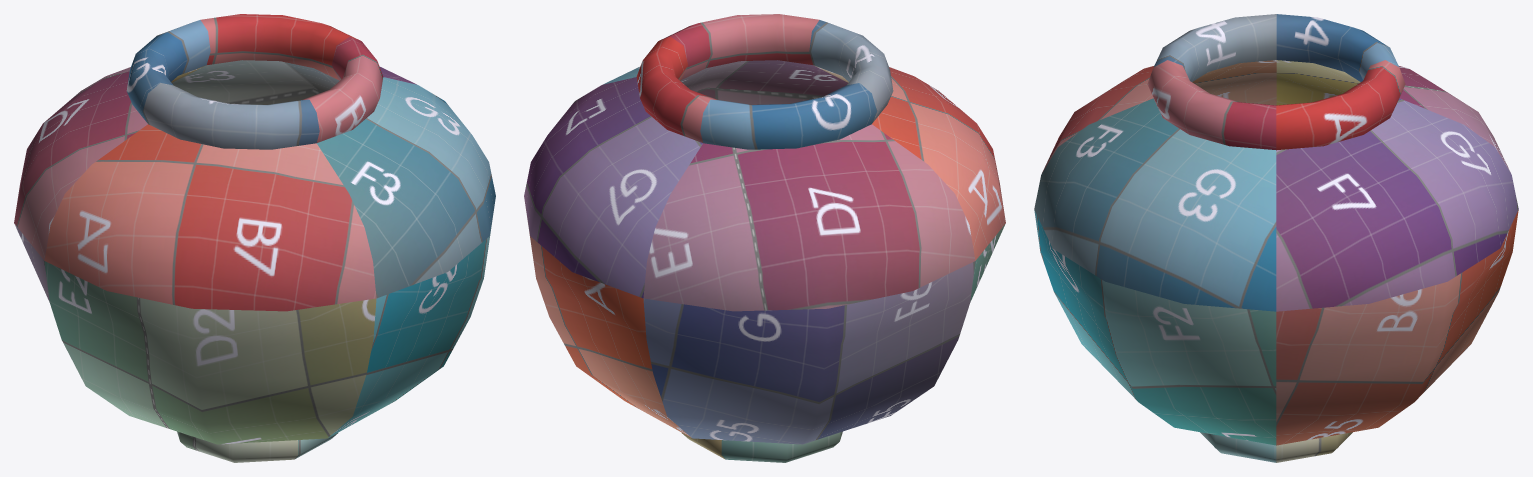
File: SmallVase_SHAT.fbx
3 views of the same model, side by side, from view 1: azimuth 30°, elevation 25°; view 2: azimuth 150°, elevation 25°; view 3: azimuth 270°, elevation 25° (orthographic).
Visible parts, largest first — view 1: SmallVase_SHAT.001; view 2: SmallVase_SHAT.001; view 3: SmallVase_SHAT.001.
Boxes of the visible parts, <box> form: SmallVase_SHAT.001: <box>14,14,495,462</box>; SmallVase_SHAT.001: <box>524,14,1005,462</box>; SmallVase_SHAT.001: <box>1034,14,1518,462</box>.
Bounding box in the file's own units: 1.08 × 0.9105 × 1.08.
1 material, 1 textured.
